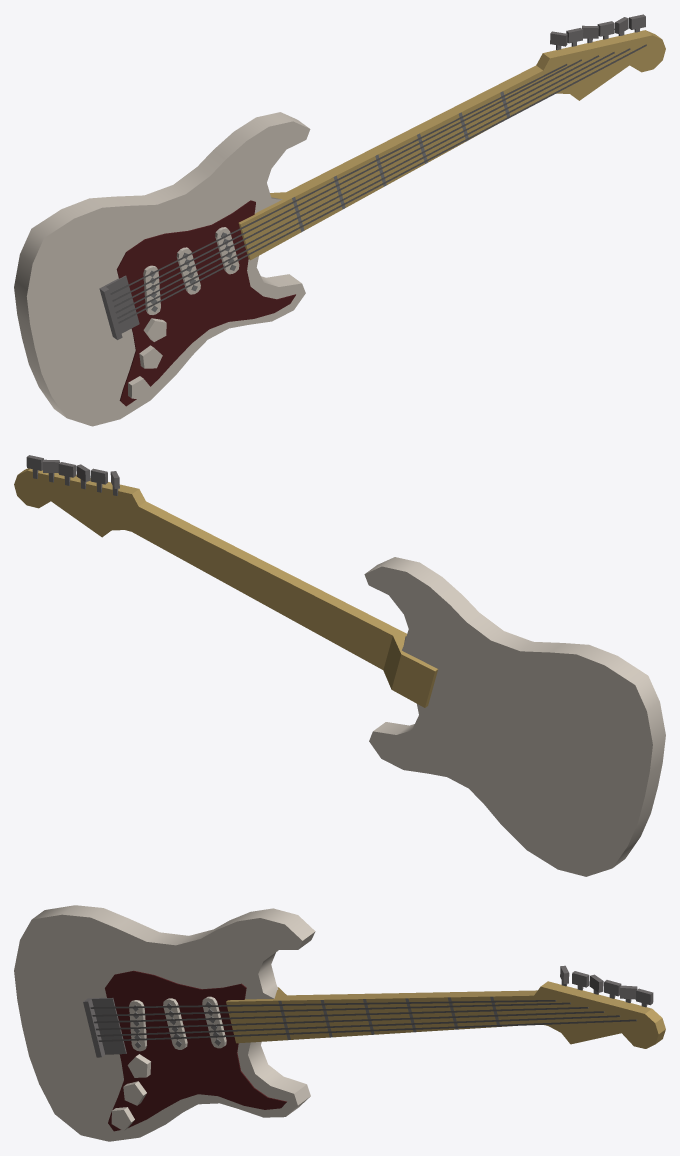
Rendered from Strat Guitar.fbx.
The picture shows the model from 3 angles, top to bottom: view 1: azimuth 30°, elevation 25°; view 2: azimuth 150°, elevation 25°; view 3: azimuth 330°, elevation 25°; orthographic projection.
Parts seen in each view (by area): view 1: Strat; view 2: Strat; view 3: Strat.
Boxes of the visible parts, x1,y1,x2,y2 form: Strat: (14,14,665,426); Strat: (14,455,665,876); Strat: (14,905,665,1141).
Bounding box in the file's own units: 1.26 × 0.5211 × 0.0709.
